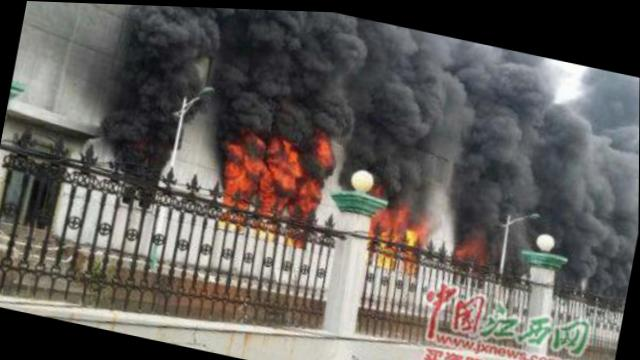fire: (220, 128, 300, 210), (292, 170, 326, 215), (375, 201, 407, 236), (309, 124, 335, 167), (453, 228, 486, 257), (402, 214, 426, 242)
